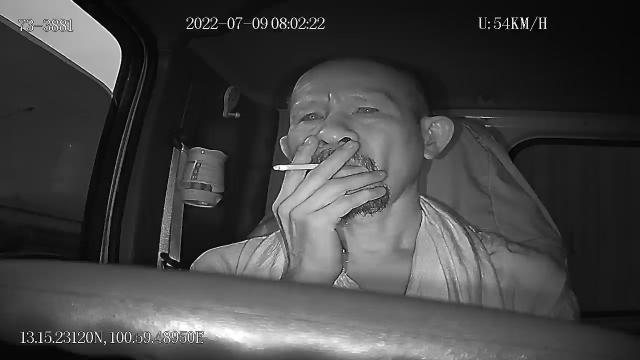SafeDriving: (346, 94, 387, 121), (291, 102, 328, 128)
Smoking: (271, 162, 321, 172)
